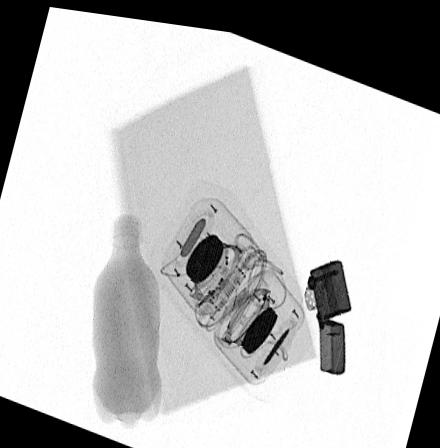Lighter: (301, 249, 351, 366)
